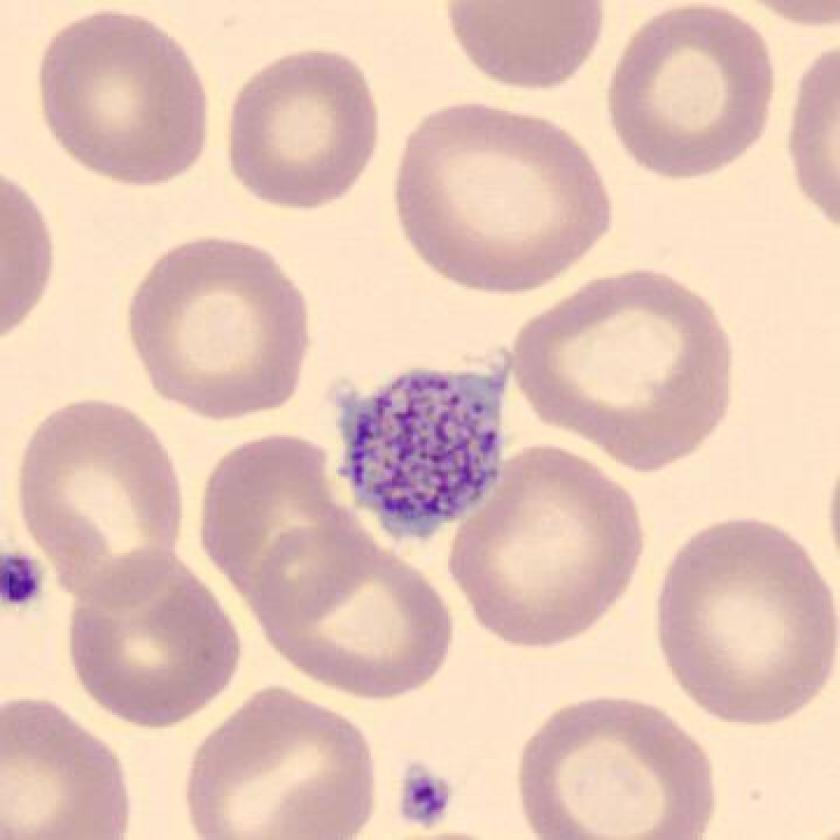platelets: (330, 351, 519, 550), (391, 758, 465, 834), (1, 545, 55, 616)
